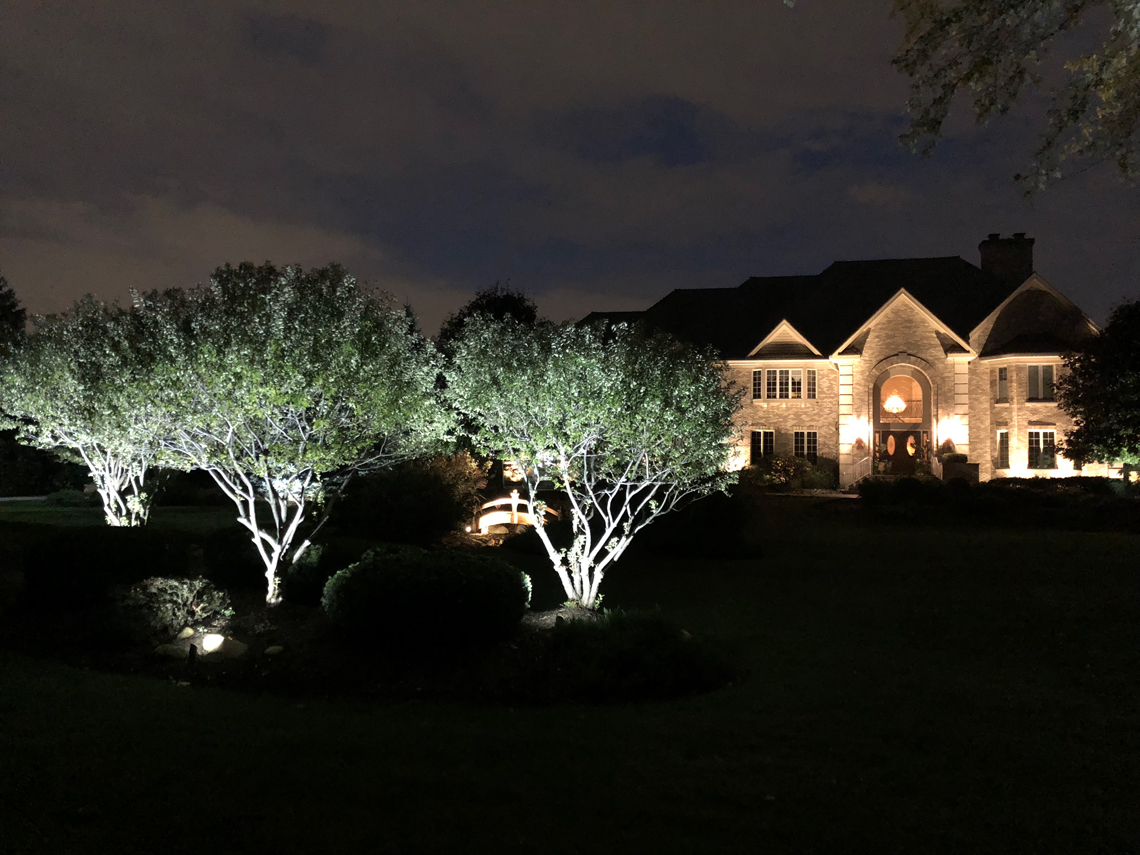tree: (144, 269, 444, 601), (437, 322, 738, 627), (7, 305, 214, 529)
